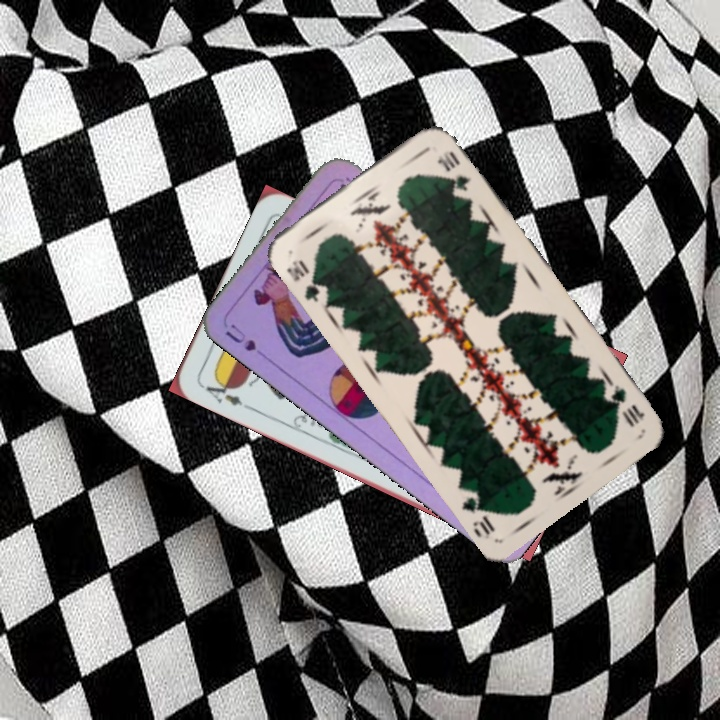EA: (202, 373, 245, 409)
G10: (605, 377, 648, 430), (282, 255, 326, 305)
SU: (221, 319, 274, 364)
